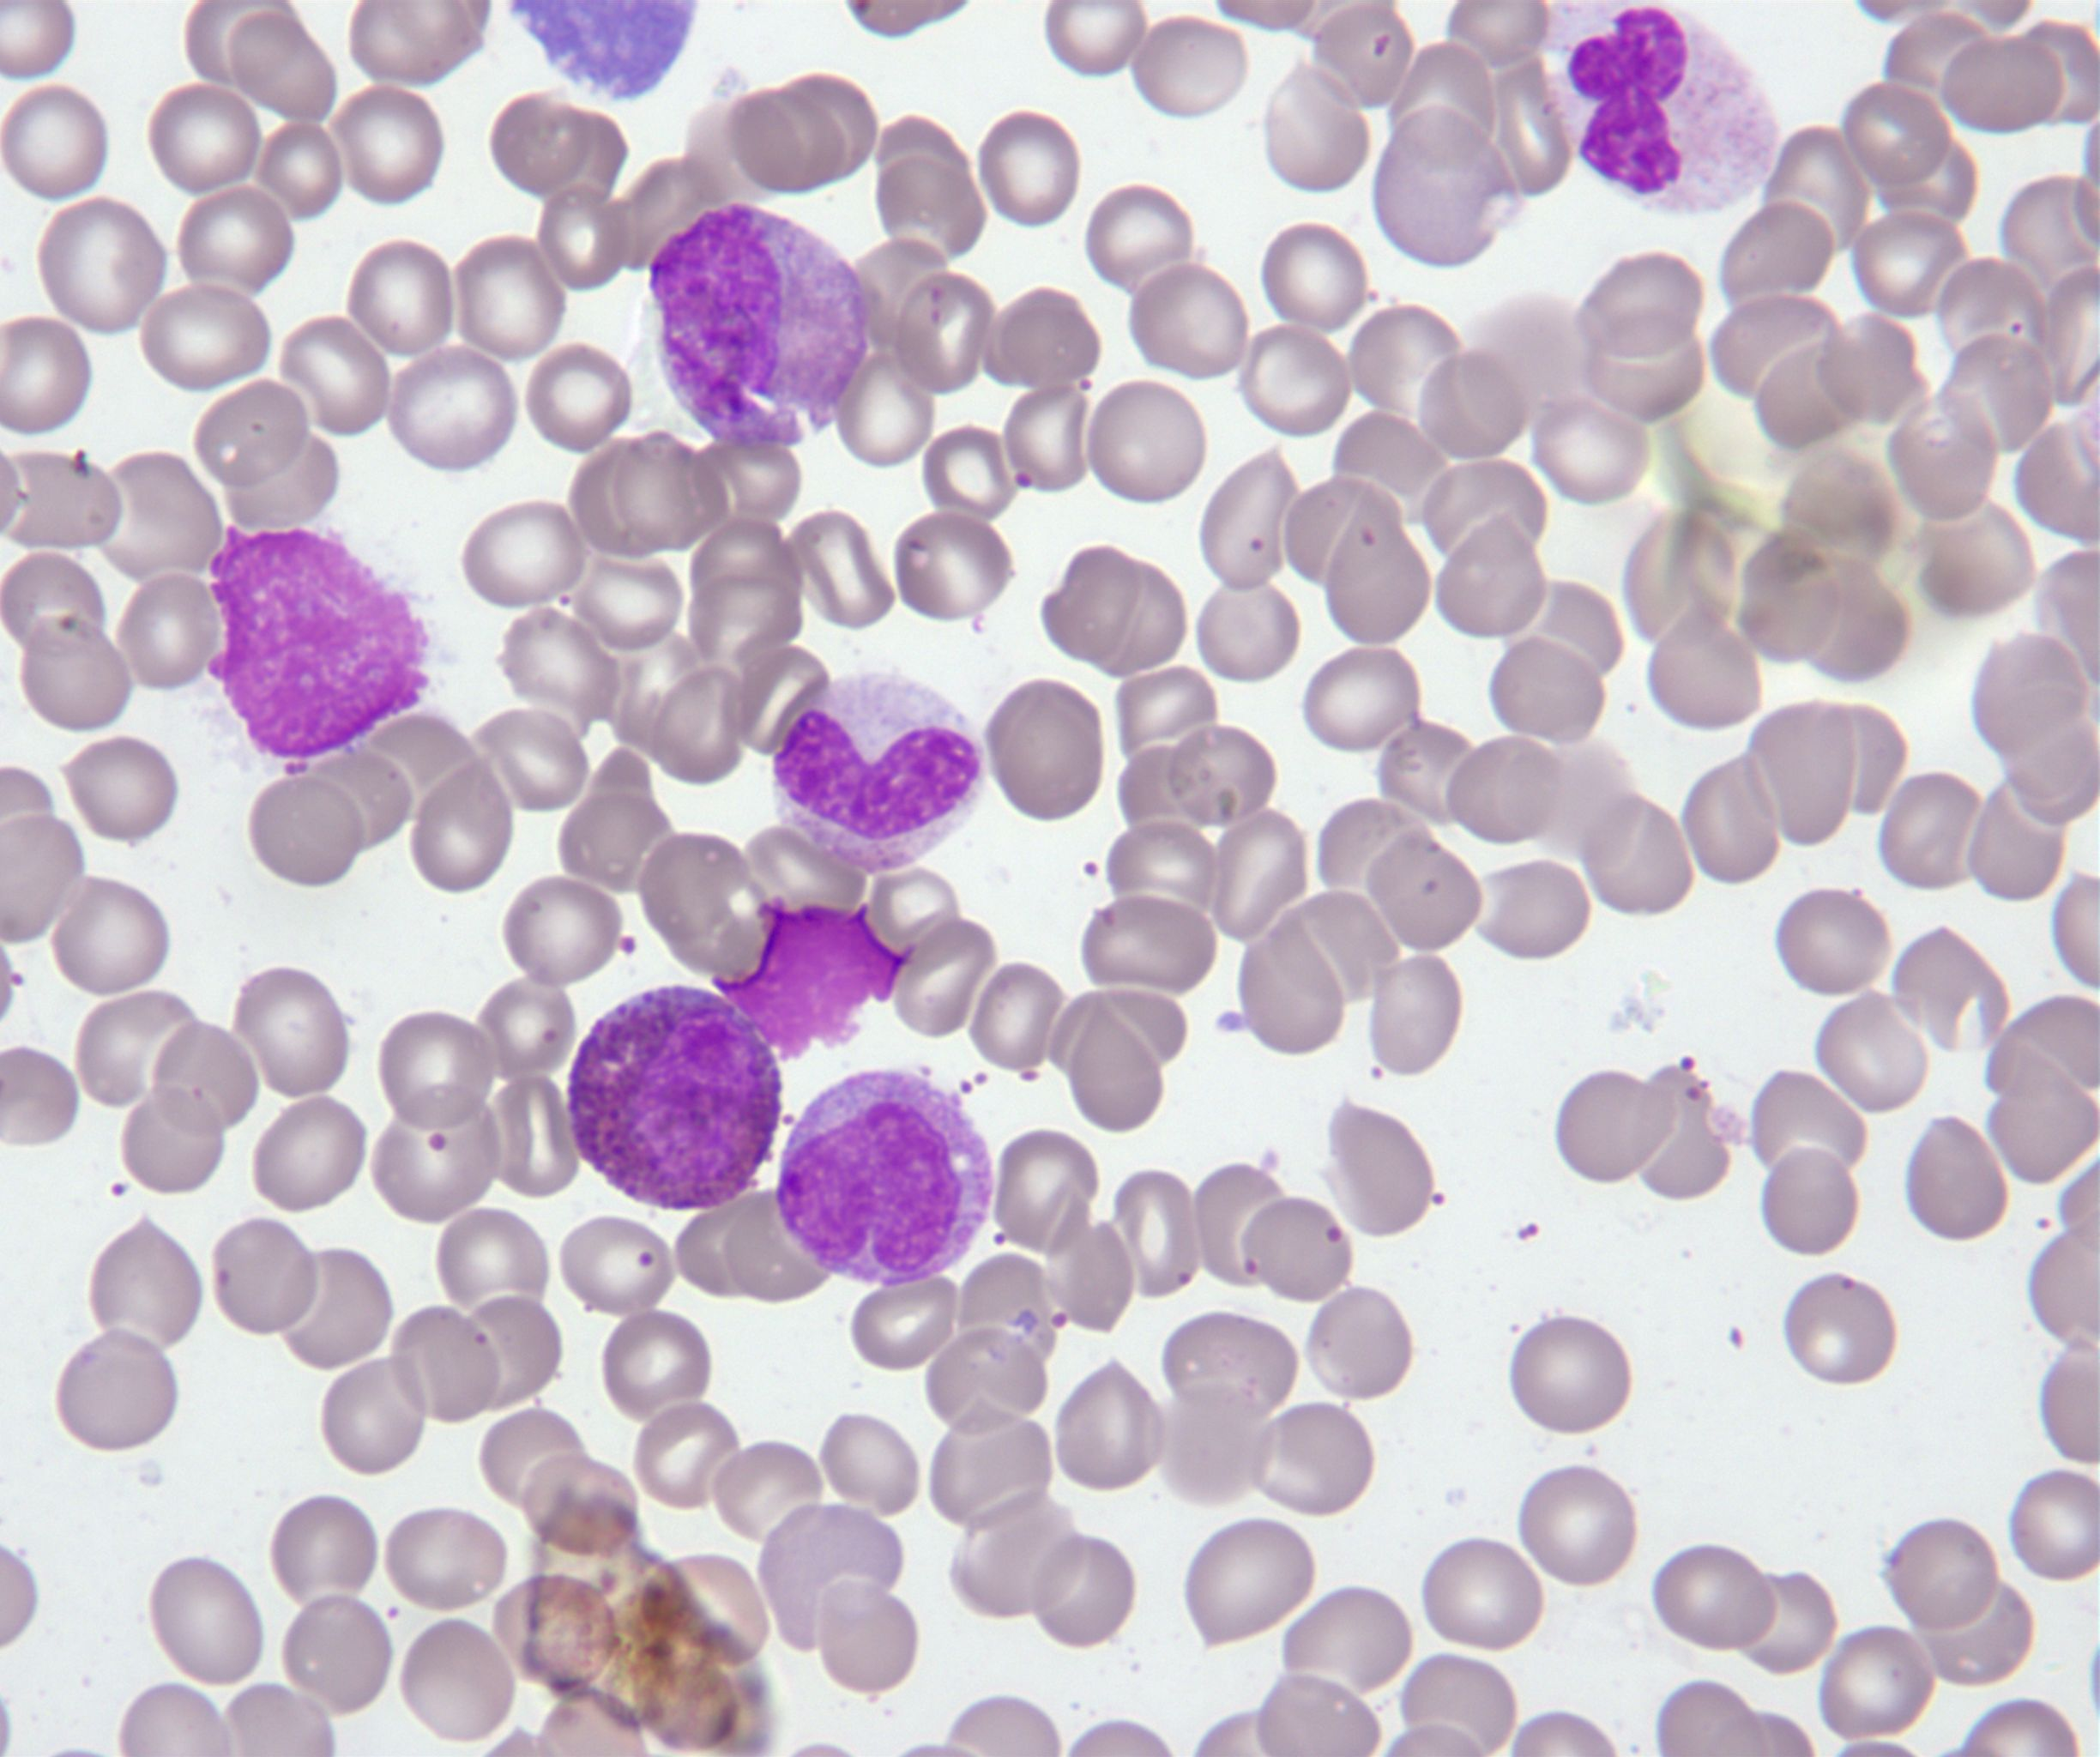3: (642, 195, 876, 457)
4: (764, 670, 991, 879)
42: (771, 1064, 999, 1289)
5: (1540, 0, 1781, 218)
E2: (562, 982, 788, 1216)
x: (201, 516, 434, 775)
